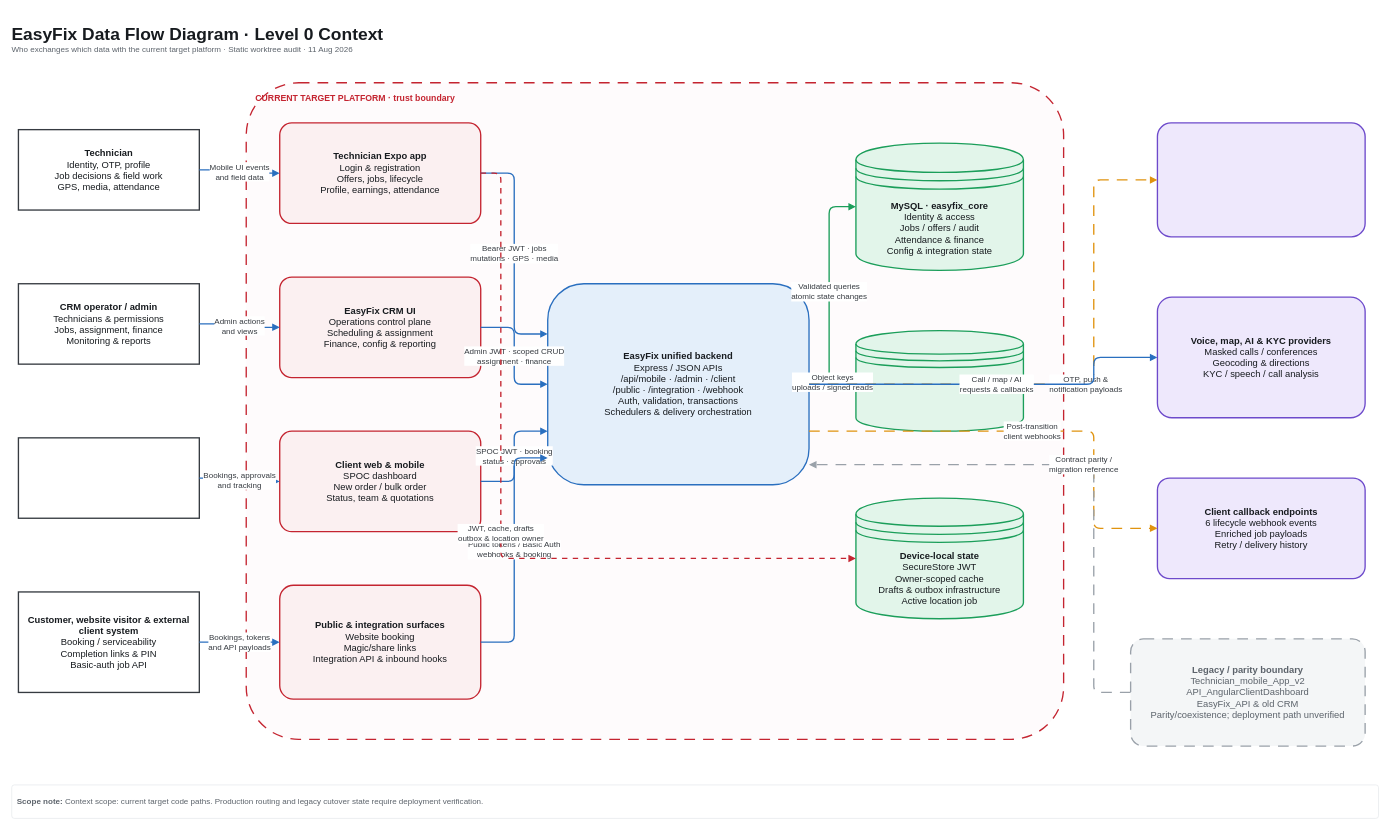
This 1390x830 diagram has some shape labels left out. Each missing label, with the centre of its shape:
"Client SPOC OTP login Bookings / bulk upload Tracking & approvals" goes at point 108,478.
"Media storage S3 job/profile media Short-lived signed reads Legacy file fallback" goes at point 939,380.
"Messaging providers FCM push SMS / OTP / email WhatsApp notifications" goes at point 1260,179.
